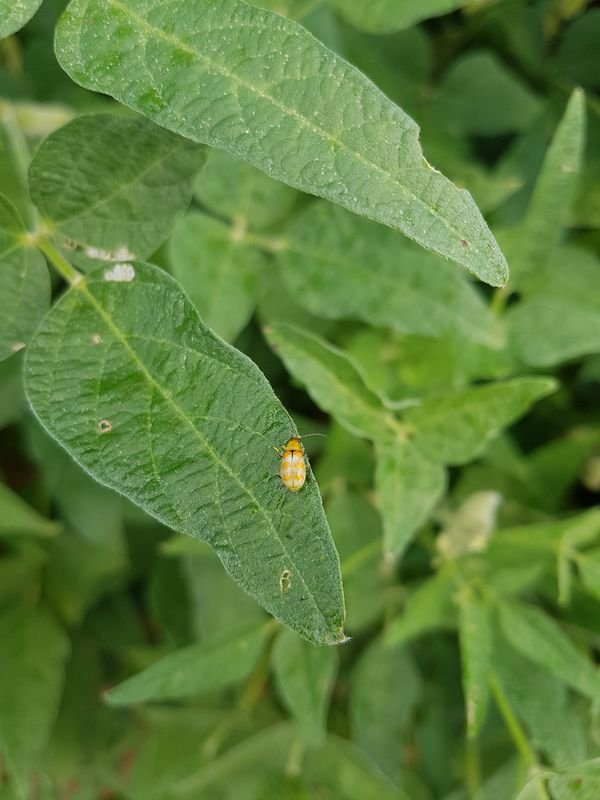Diabrotica_speciosa: (262, 429, 327, 496)
